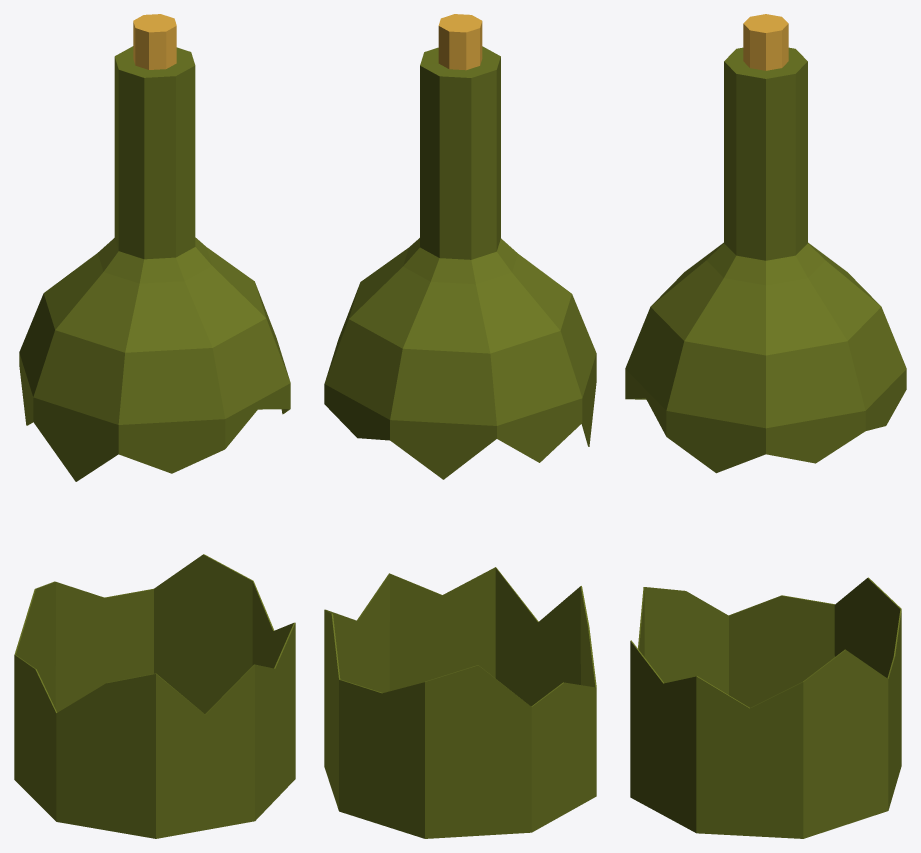
The model's file is bottle-halves.fbx.
The picture shows the model from 3 angles, left to right: view 1: azimuth 30°, elevation 25°; view 2: azimuth 150°, elevation 25°; view 3: azimuth 270°, elevation 25°; orthographic projection.
Visible parts, largest first — view 1: bottle-bottomhalf, bottle-tophalf; view 2: bottle-tophalf, bottle-bottomhalf; view 3: bottle-tophalf, bottle-bottomhalf.
Boxes of the visible parts, bbox=[...] form: bottle-bottomhalf: bbox=[14, 554, 295, 838]; bottle-tophalf: bbox=[19, 14, 290, 481]; bottle-tophalf: bbox=[324, 14, 596, 479]; bottle-bottomhalf: bbox=[324, 567, 596, 838]; bottle-tophalf: bbox=[625, 14, 906, 473]; bottle-bottomhalf: bbox=[630, 577, 901, 838].
Size of the model in its own units: 41.61 by 124 by 41.61.
